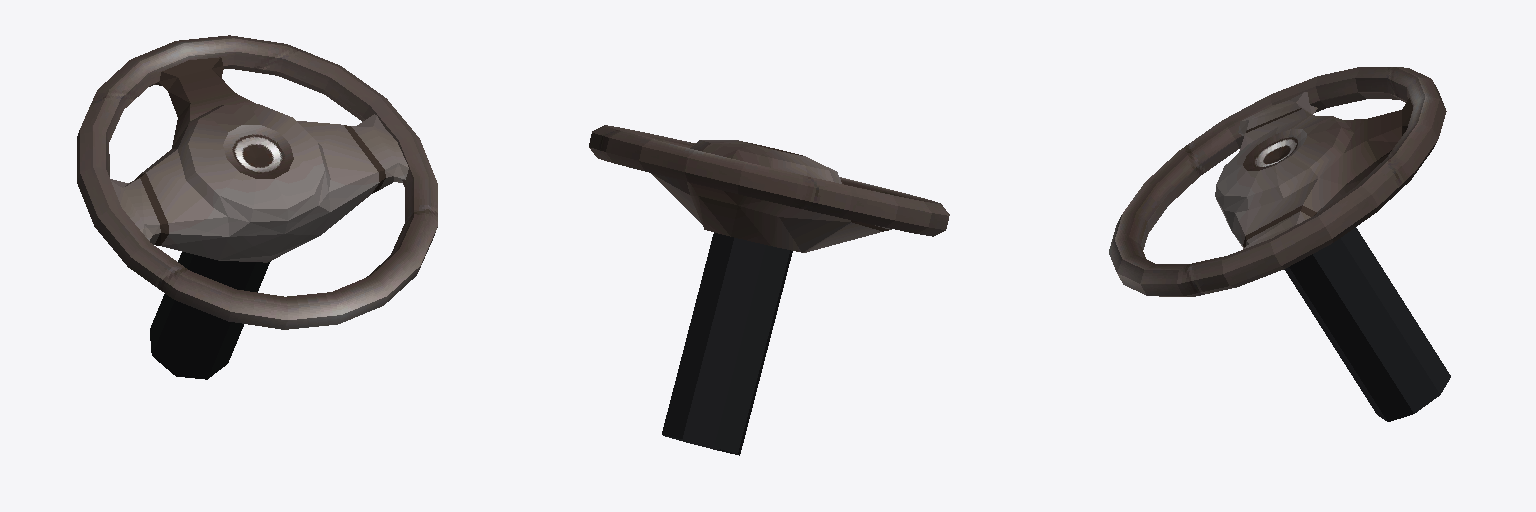
3 views of the same model, side by side, from view 1: azimuth 30°, elevation 25°; view 2: azimuth 150°, elevation 25°; view 3: azimuth 270°, elevation 25° (orthographic).
Visible parts, largest first — view 1: Object.1, Object.2; view 2: Object.1, Object.2; view 3: Object.1, Object.2.
Part boxes in pixels (left/top/right/bottom): Object.1: left=77, top=35, right=437, bottom=329; Object.2: left=150, top=252, right=270, bottom=379; Object.1: left=589, top=125, right=949, bottom=252; Object.2: left=662, top=232, right=792, bottom=455; Object.1: left=1109, top=67, right=1446, bottom=296; Object.2: left=1284, top=227, right=1450, bottom=421.
Size of the model in its own units: 3.14 by 2.97 by 2.9.
2 materials, 2 textured.